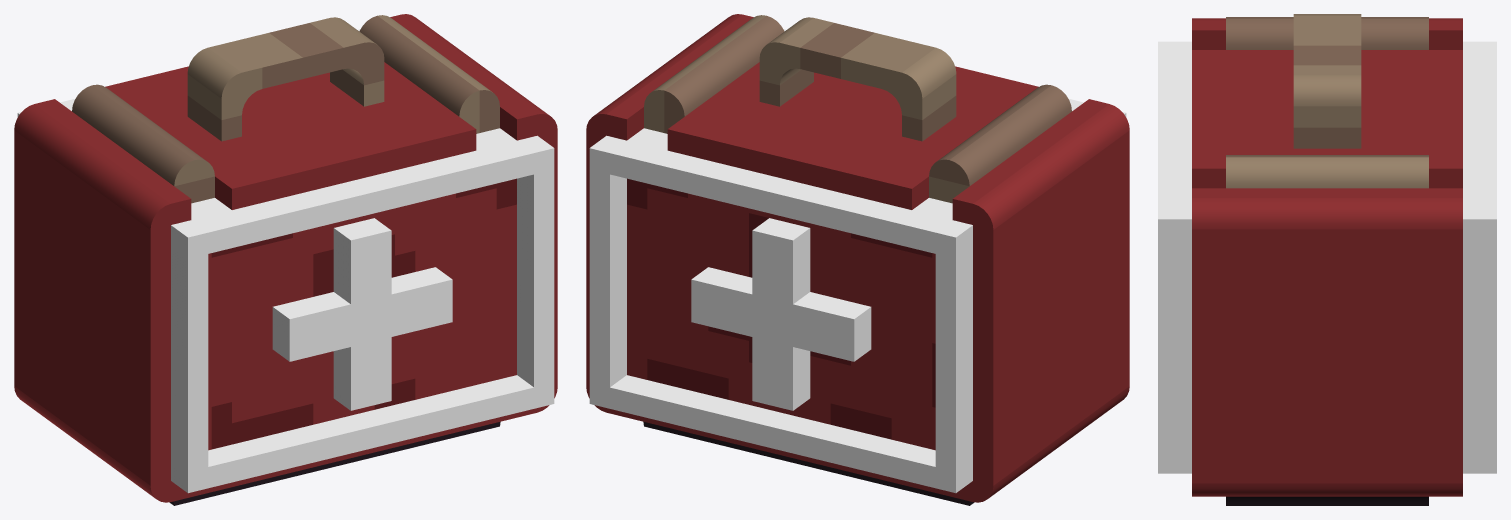
File: FirstAidKit.fbx
3 renders of one model, left to right at view 1: azimuth 30°, elevation 25°; view 2: azimuth 150°, elevation 25°; view 3: azimuth 270°, elevation 25°, orthographic.
Parts seen in each view (by area): view 1: generated; view 2: generated; view 3: generated.
Part boxes in pixels (x1,y1,x2,y2): generated: [14, 14, 557, 505]; generated: [586, 14, 1129, 505]; generated: [1158, 14, 1496, 505].
Bounding box in the file's own units: 200 × 180 × 145.
